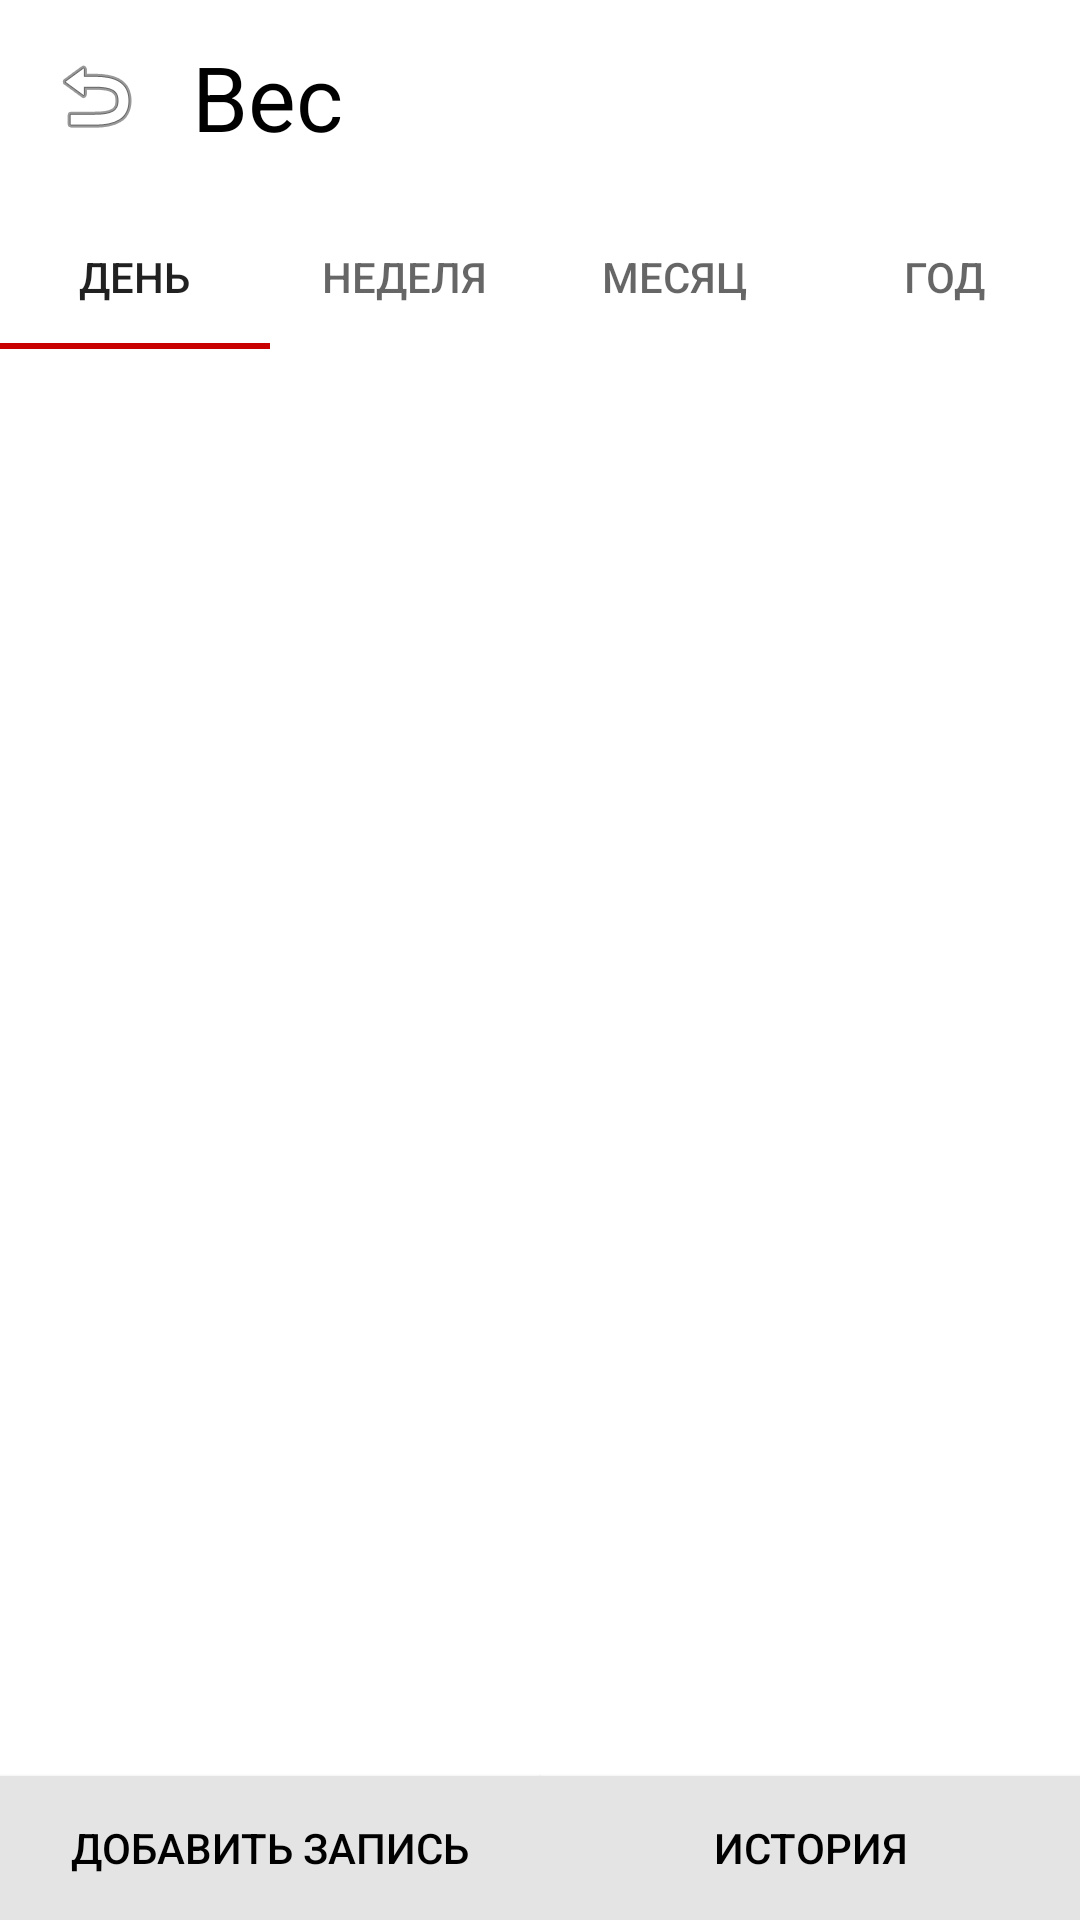

Icon bounding boxes for this 1080px x 1920px phone screenshot, format (left=x1, top=y1, right=x2, bottom=y2):
Назад: (left=63, top=65, right=132, bottom=128)
